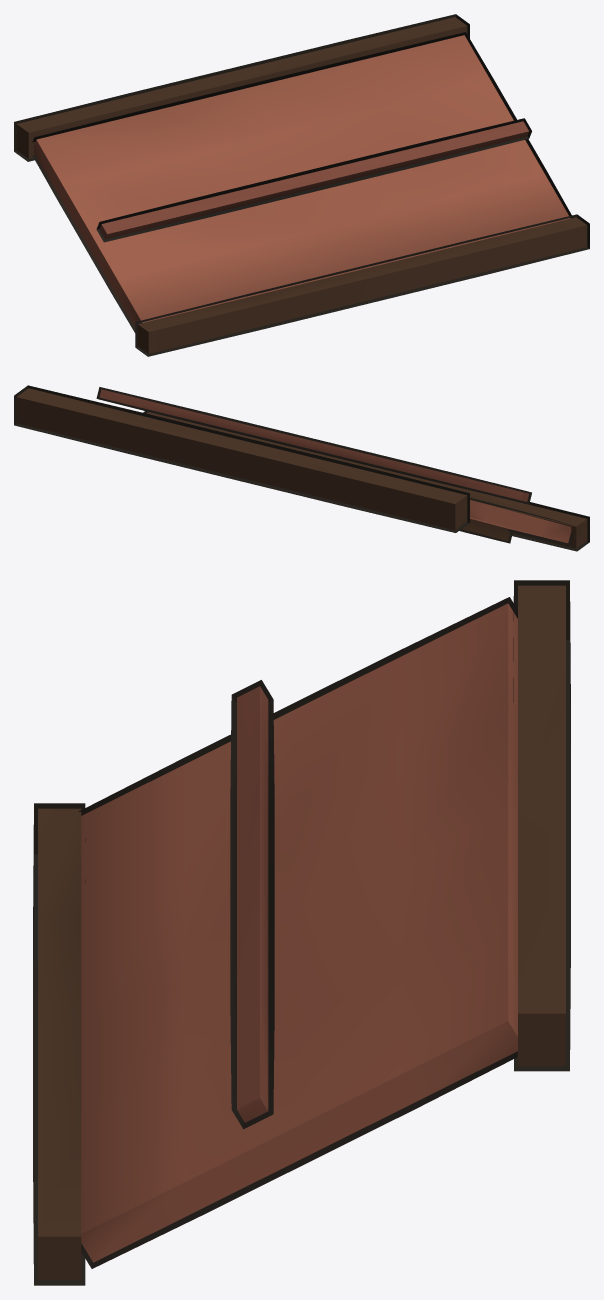
File: toit_appentis.glb
3 views of the same model, one above another, from view 1: azimuth 30°, elevation 25°; view 2: azimuth 150°, elevation 25°; view 3: azimuth 270°, elevation 25° (orthographic). The views are drawn at different scales.
Parts seen in each view (by area): view 1: toit_appentis, toit_appentis_outline; view 2: toit_appentis, toit_appentis_outline; view 3: toit_appentis, toit_appentis_outline.
Boxes of the visible parts, x1,y1,x2,y2 form: toit_appentis: [16, 17, 587, 353]; toit_appentis_outline: [14, 14, 589, 356]; toit_appentis: [16, 388, 587, 548]; toit_appentis_outline: [14, 385, 589, 551]; toit_appentis: [38, 585, 565, 1280]; toit_appentis_outline: [33, 580, 570, 1285].
Bounding box in the file's own units: 2.12 × 0.6609 × 1.11.
